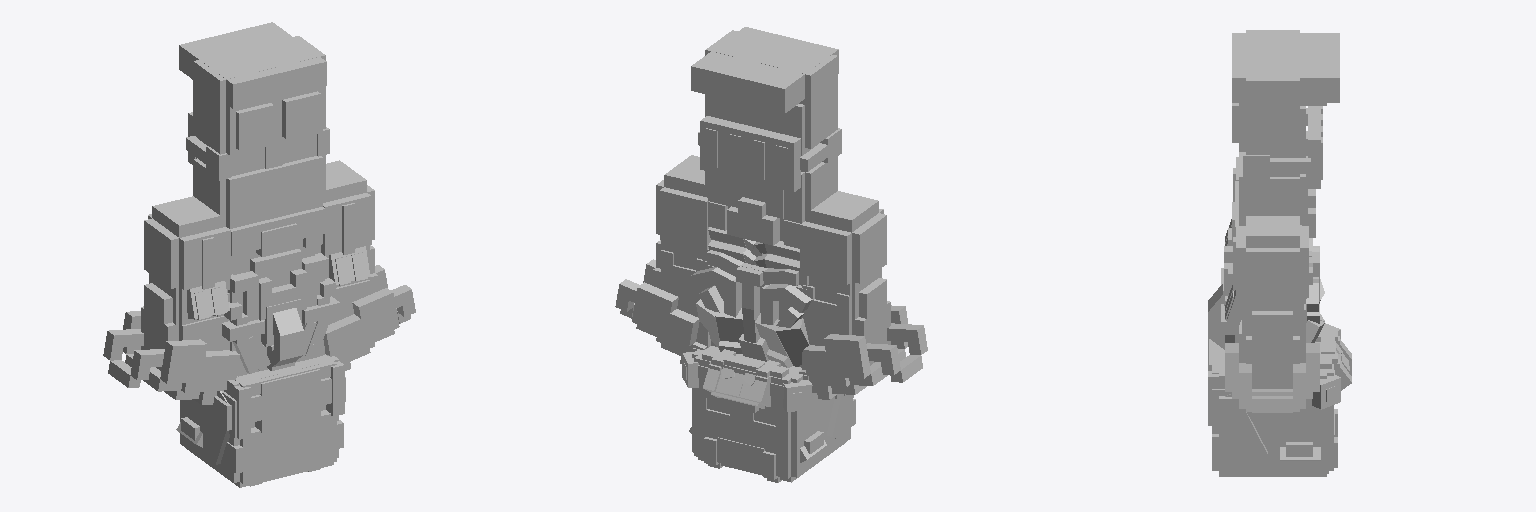
The model's file is x03_armor.obj.
3 renders of one model, left to right at view 1: azimuth 30°, elevation 25°; view 2: azimuth 150°, elevation 25°; view 3: azimuth 270°, elevation 25°, orthographic.
Visible parts, largest first — view 1: RightArm, Head, Body, LeftArm, RightLeg, LeftLeg, RightBoot, LeftBoot; view 2: RightArm, Head, Body, LeftArm, RightLeg, RightBoot, LeftLeg, LeftBoot; view 3: LeftArm, Head, LeftLeg, LeftBoot, Body, RightBoot.
Part boxes in pixels (x1,y1,x2,y2): RightArm: (103,196,239,404); Head: (176,354,345,487); Body: (217,207,339,376); LeftArm: (321,160,415,370); RightLeg: (186,86,282,228); LeftLeg: (265,87,329,217); RightBoot: (179,34,279,108); LeftBoot: (226,22,326,97); RightArm: (799,191,927,399); Head: (682,346,855,482); Body: (691,197,812,367); LeftArm: (615,155,710,363); RightLeg: (747,81,841,223); RightBoot: (738,38,838,113); LeftLeg: (698,94,754,207); LeftBoot: (691,27,790,101); LeftArm: (1225,216,1319,412); Head: (1208,323,1351,476); LeftLeg: (1232,103,1322,225); LeftBoot: (1232,55,1339,105); Body: (1208,181,1324,349); RightBoot: (1232,30,1339,55).
Bounding box in the file's own units: 24.16 × 32.71 × 10.69.